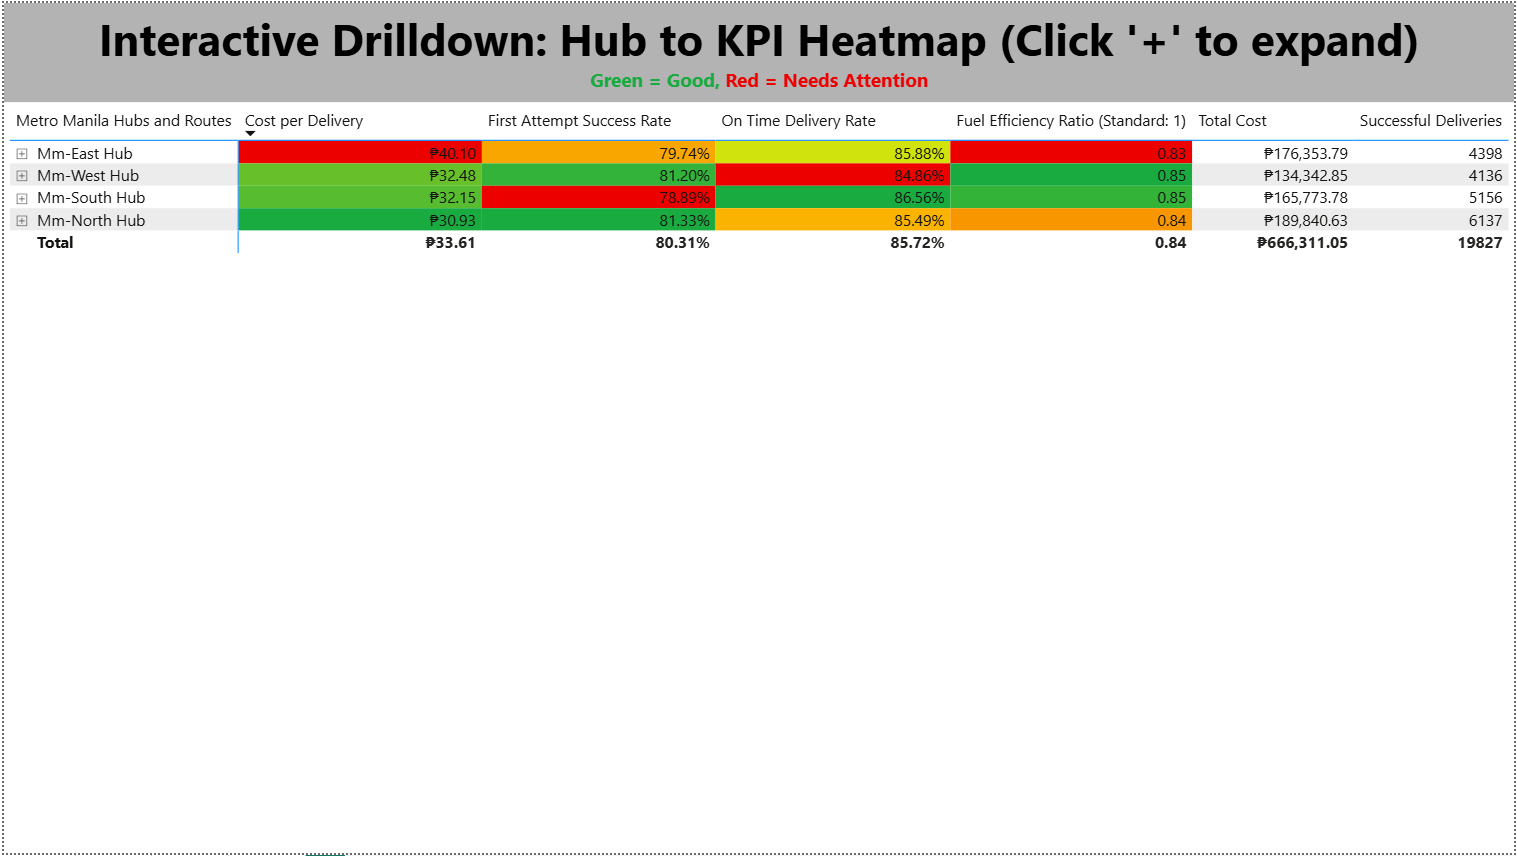

Layout of this report page (visuals, bound fields, positions):
{"tool":"powerbi","page":{"name":"Page 4","canvas":[1280,720],"ordinal":3},"visuals":[{"type":"pivotTable","fields":{"Rows":["kpi_table_powerbi_filled_plausible_final.hub_name","kpi_table_powerbi_filled_plausible_final.route_id"],"Values":["kpi_table_powerbi_filled_plausible_final.KPI 1 Cost per Successful Delivery (PHP)","kpi_table_powerbi_filled_plausible_final.KPI_2 First Attempt Success Rate","kpi_table_powerbi_filled_plausible_final.KPI_3 On-Time Delivery Rate","kpi_table_powerbi_filled_plausible_final.KPI4 Fuel Efficiency vs Standard","Sum(kpi_table_powerbi_filled_plausible_final.total_cost_php)","Sum(kpi_table_powerbi_filled_plausible_final.successful_deliveries)"]},"box":[0,83.9,1280,636.1],"z":0},{"type":"textbox","box":[0,0,1280,83.9],"z":1000}]}

Visuals, with their boxes in screenshot pixels (x1, y1, x2, y2), scaled from the page's 1280x720 canvas onto the 1517x856 screenshot:
pivotTable - kpi_table_powerbi_filled_plausible_final.hub_name x kpi_table_powerbi_filled_plausible_final.route_id: crop(0, 100, 1516, 855)
textbox: crop(0, 0, 1516, 100)
